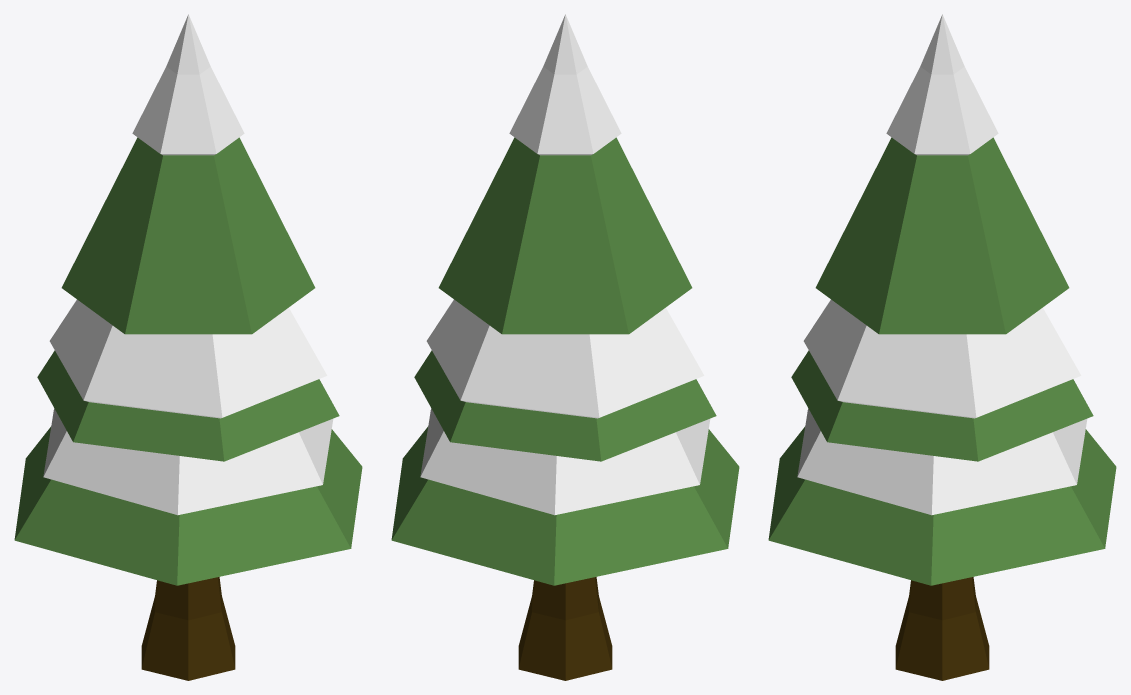
Rendered from Tree_3_Snow.fbx.
3 views of the same model, side by side, from view 1: azimuth 30°, elevation 25°; view 2: azimuth 150°, elevation 25°; view 3: azimuth 270°, elevation 25° (orthographic).
Parts seen in each view (by area): view 1: Tree_3_Snow; view 2: Tree_3_Snow; view 3: Tree_3_Snow.
Part boxes in pixels (x1,y1,x2,y2): Tree_3_Snow: [14, 14, 362, 680]; Tree_3_Snow: [391, 14, 739, 680]; Tree_3_Snow: [768, 14, 1116, 680].
Size of the model in its own units: 7.17 by 13.1 by 6.42.
